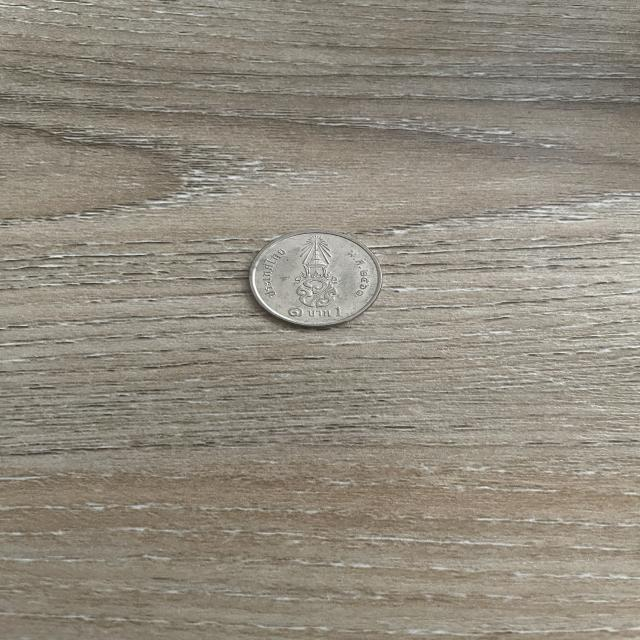1 Bath: (238, 222, 395, 335)
